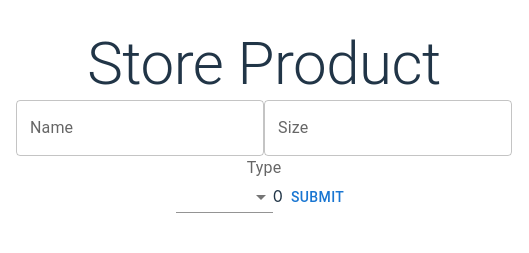
Test: all fields should be required › should show "the field is required" if user leaves empty field
The width and height of the screenshot is (529, 253).
Click the button "Submit".
click(318, 198)  # box left=283, top=179, right=352, bottom=216
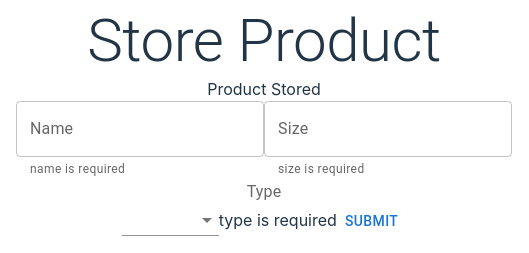
Expected: the text "name is required" is shown, left=30, top=162, right=125, bottom=176
Expected: the text "size is required" is shown, left=278, top=162, right=365, bottom=176
Expected: the text "type is required" is shown, left=219, top=209, right=337, bottom=229
